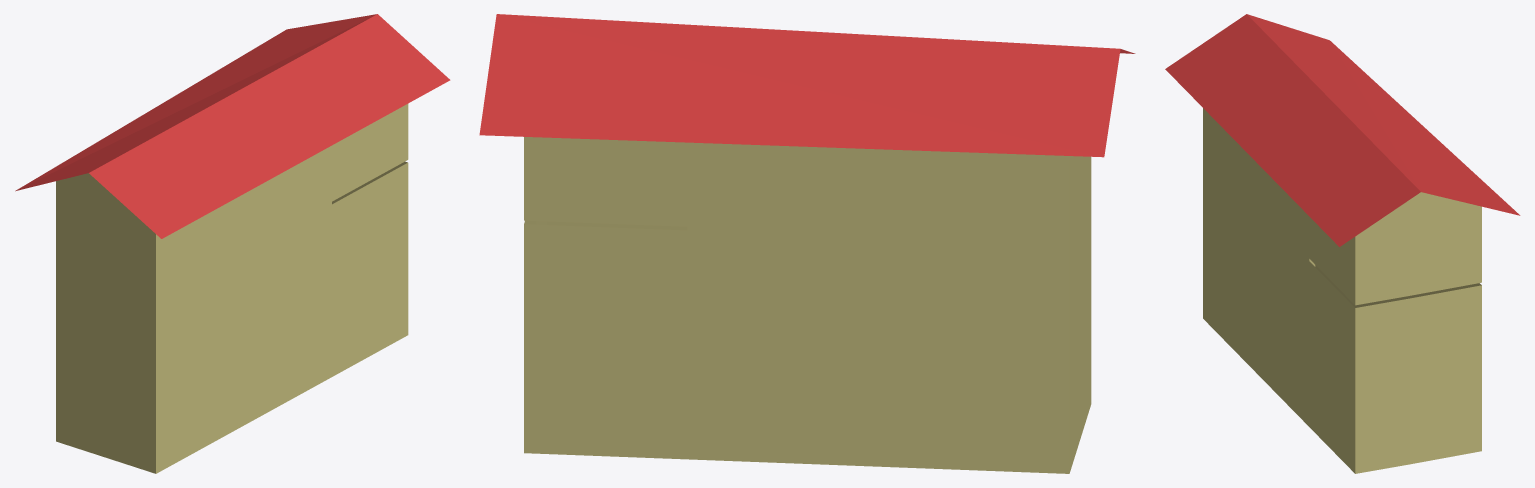
3 renders of one model, left to right at view 1: azimuth 30°, elevation 25°; view 2: azimuth 150°, elevation 25°; view 3: azimuth 270°, elevation 25°, orthographic. The views are drawn at different scales.
Bounding box in the file's own units: 16.83 × 12.23 × 10.76.
